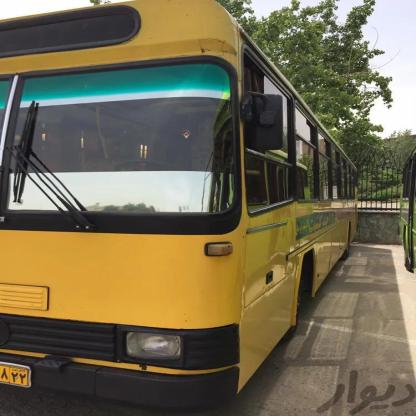Bus: (0, 0, 367, 416)
